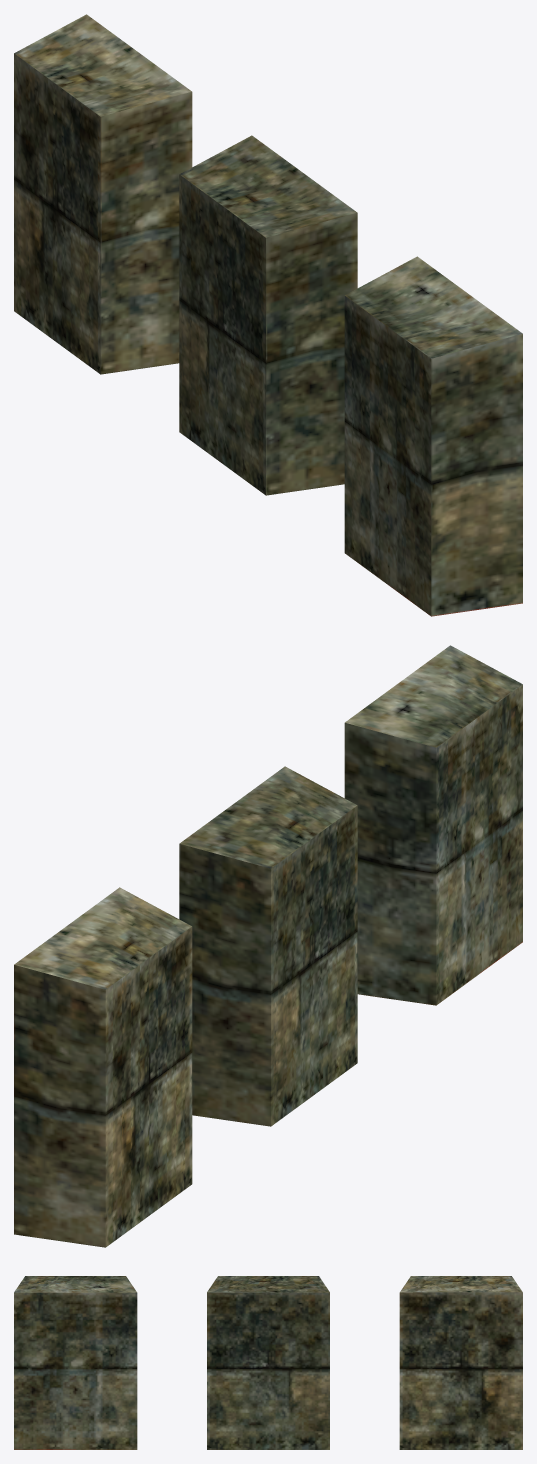
The picture shows the model from 3 angles, top to bottom: view 1: azimuth 30°, elevation 25°; view 2: azimuth 150°, elevation 25°; view 3: azimuth 270°, elevation 25°; orthographic projection. The views are drawn at different scales.
Parts seen in each view (by area): view 1: cc102-col; view 2: cc102-col; view 3: cc102-col.
Part boxes in pixels (box(x1,y1,x2,y2)): cc102-col: box(14, 14, 522, 616); cc102-col: box(14, 645, 522, 1247); cc102-col: box(14, 1276, 522, 1449).
Bounding box in the file's own units: 0.5741 × 1.8 × 5.28.
Materials: 1 (1 with a texture image).
